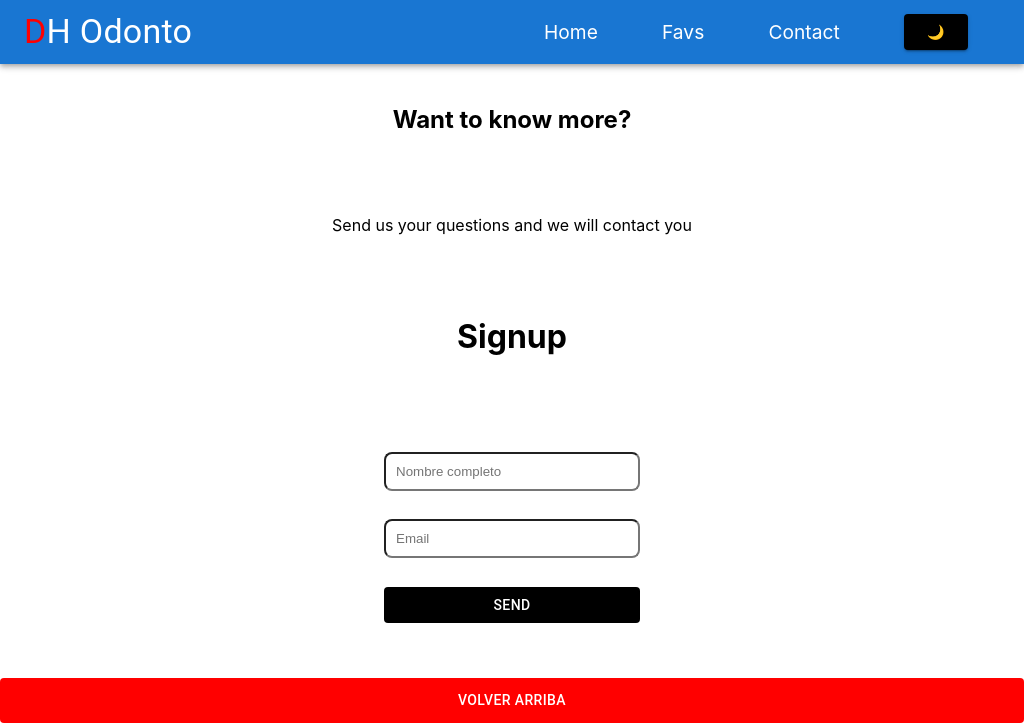
Test: Btn DarkMode
Click the button "🌙": point(936, 32) top-left (904, 14), bottom-right (968, 50)
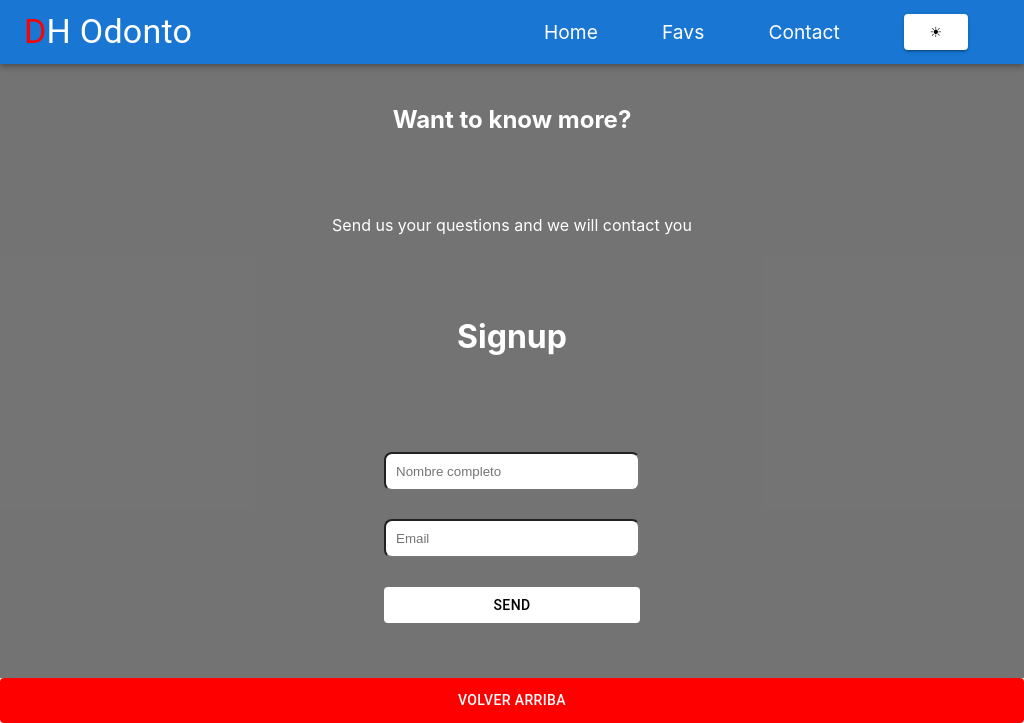
Expected: the button "☀" is shown, top-left (904, 14), bottom-right (968, 50)
